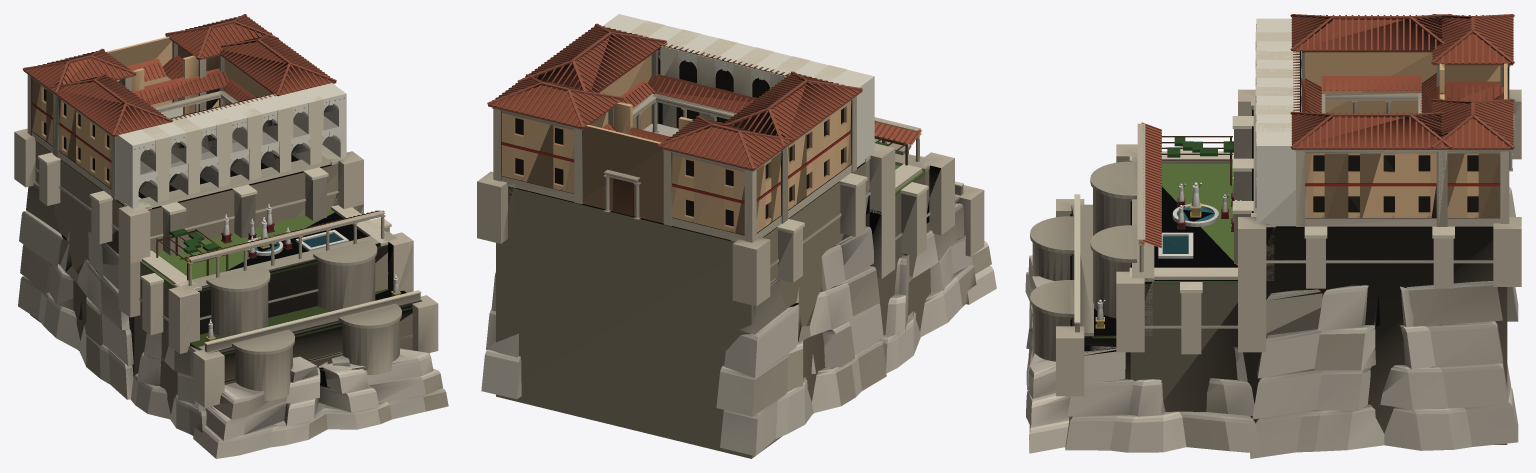
Rendered from rome_domus_a.glb.
3 views of the same model, side by side, from view 1: azimuth 30°, elevation 25°; view 2: azimuth 150°, elevation 25°; view 3: azimuth 270°, elevation 25° (orthographic). The views are drawn at different scales.
Visible parts, largest first — view 1: rome_domus_a; view 2: rome_domus_a; view 3: rome_domus_a.
Part boxes in pixels (x1,y1,x2,y2): rome_domus_a: (14, 14, 448, 458); rome_domus_a: (477, 14, 996, 458); rome_domus_a: (1025, 14, 1521, 458).
Size of the model in its own units: 33.9 by 35.69 by 49.35.
